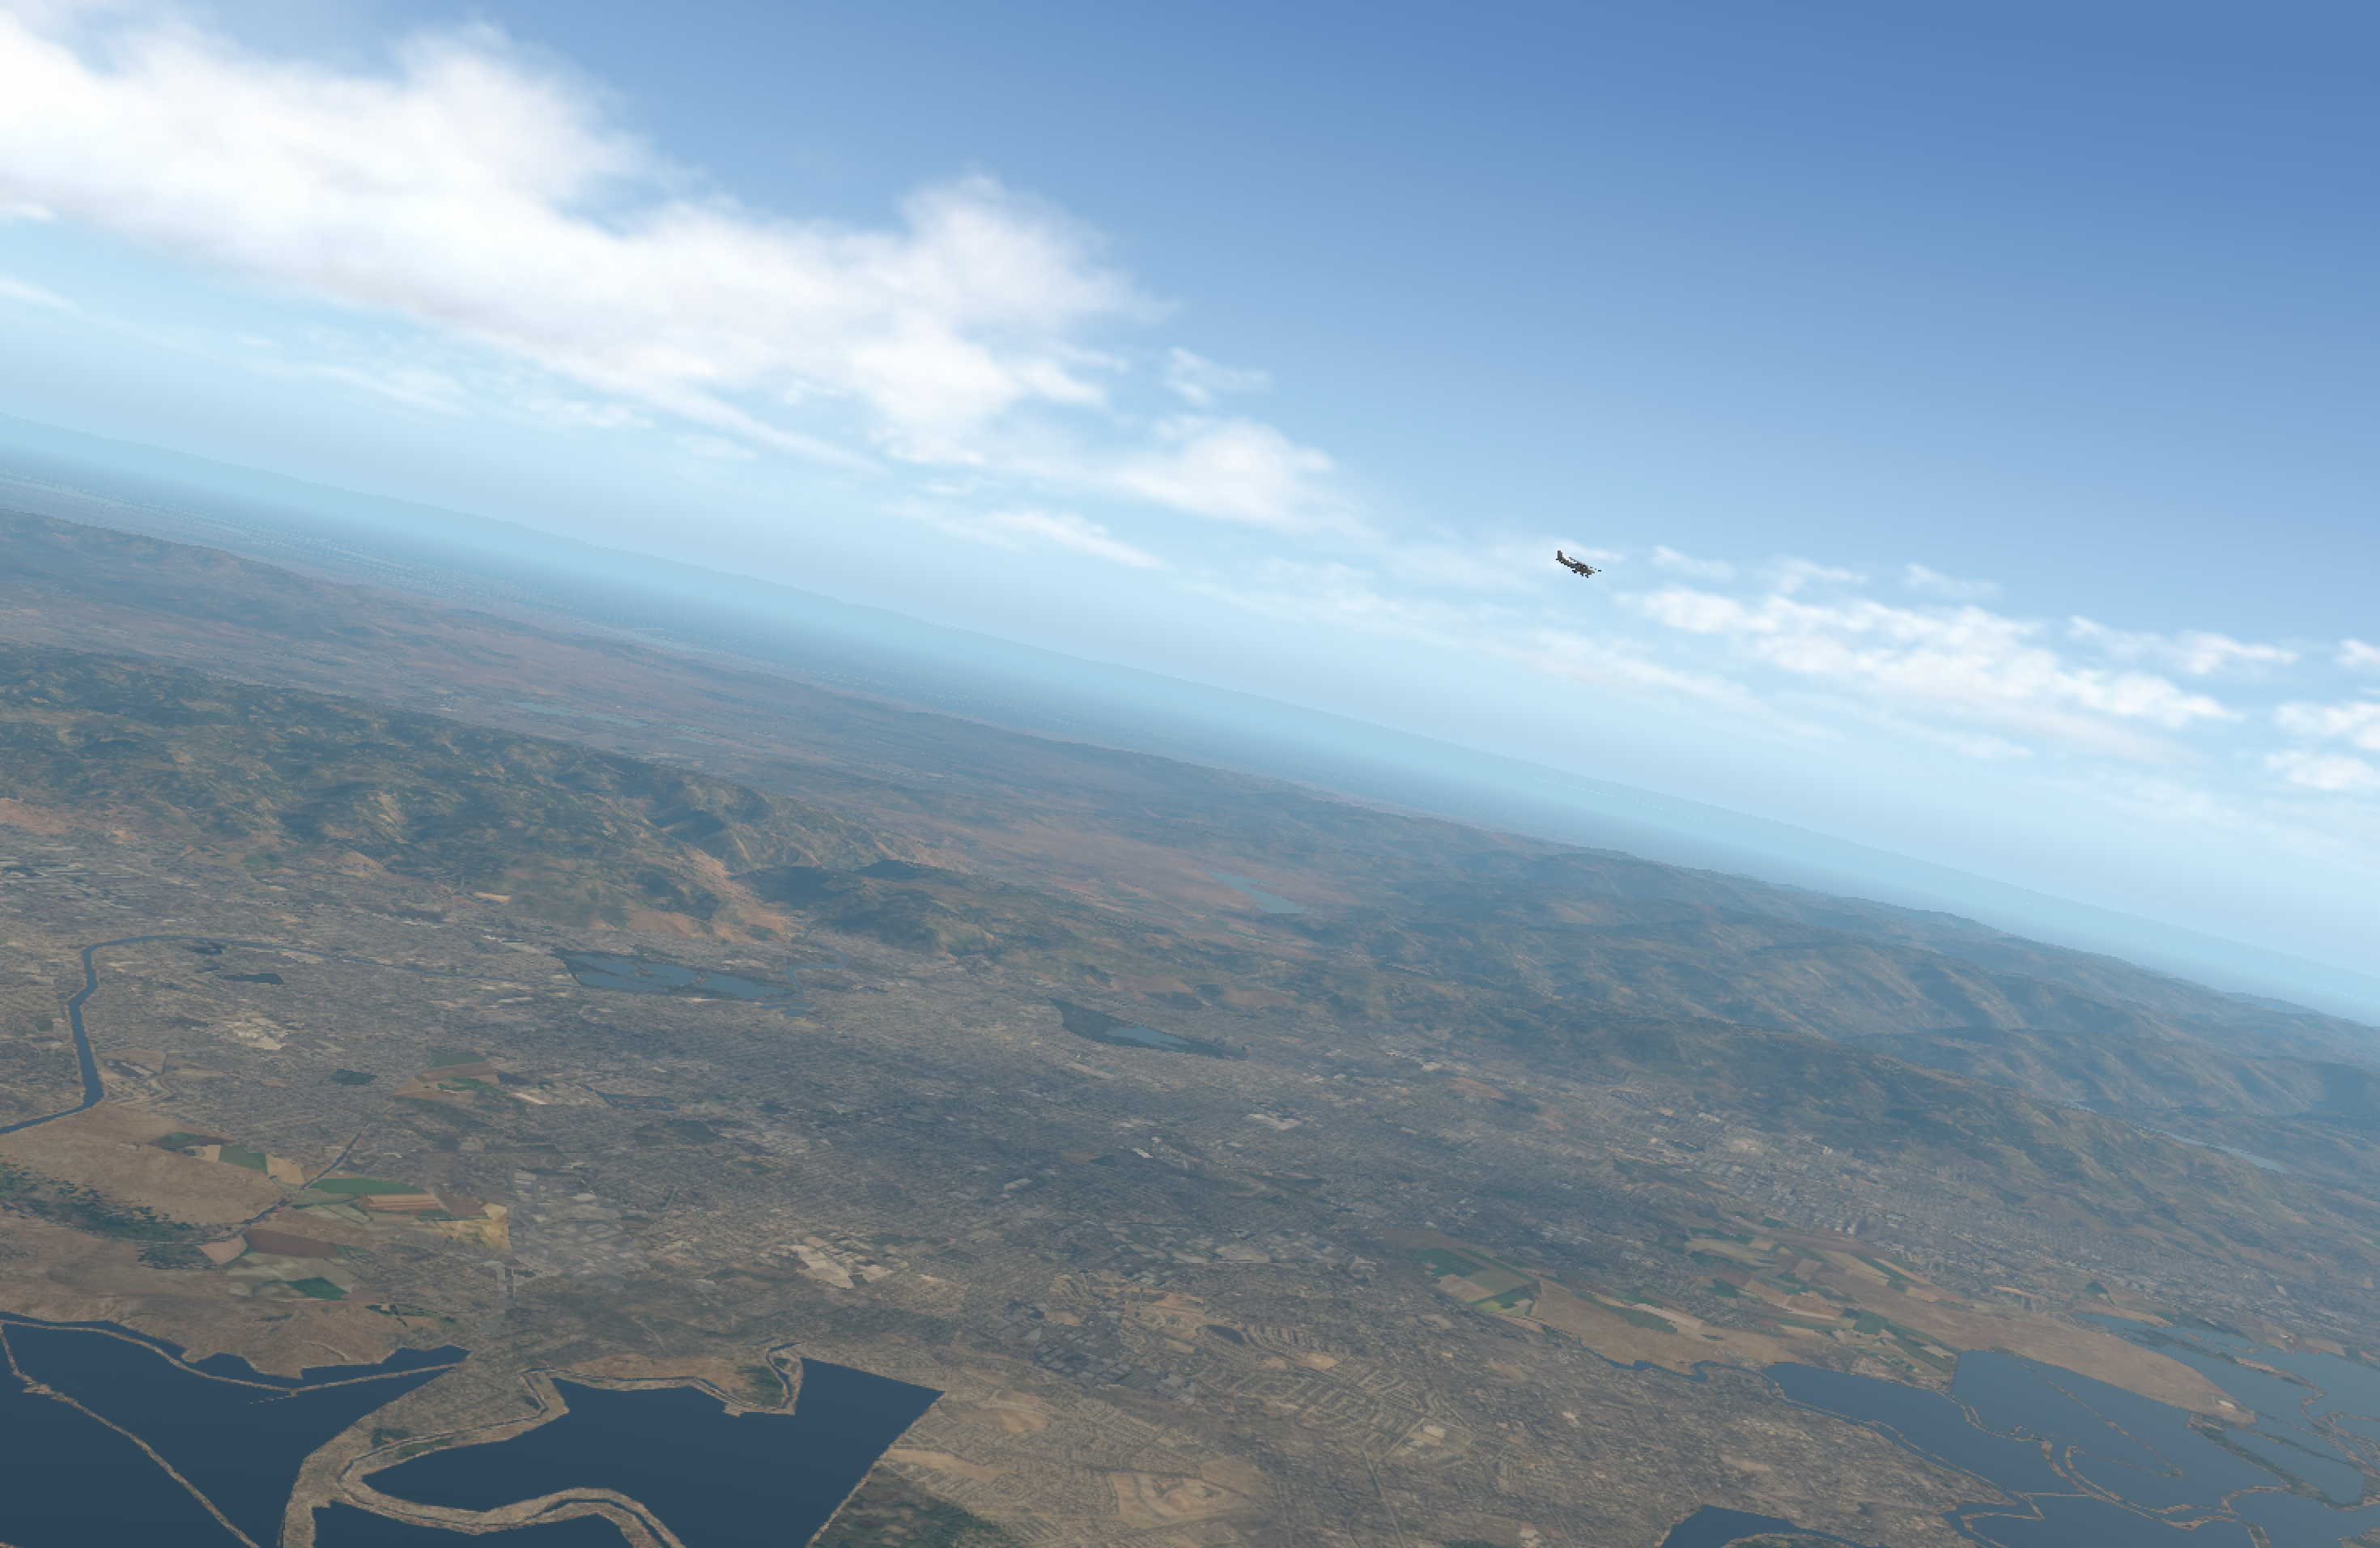aircraft: (1559, 559, 1606, 576)
